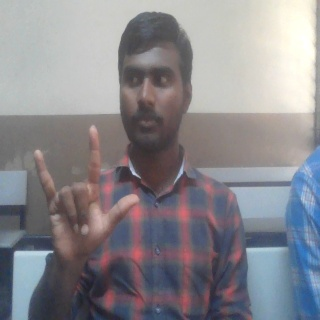Face: (116, 9, 195, 157)
I Love You: (31, 122, 143, 263)
